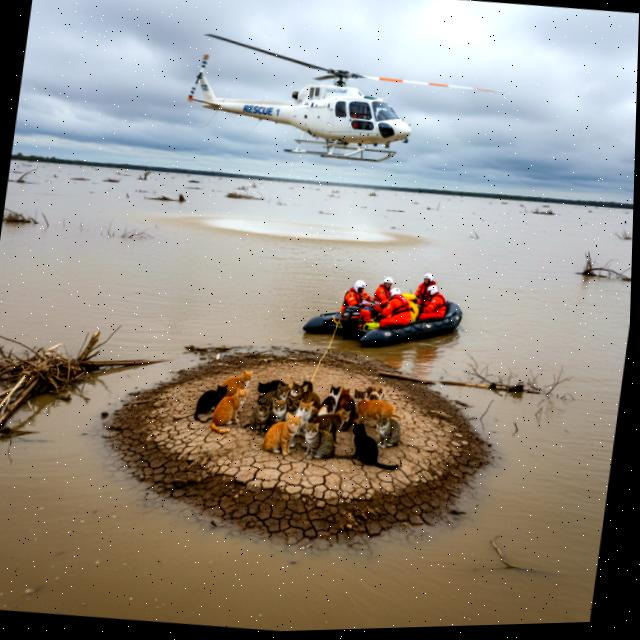cat: (345, 420, 406, 476), (208, 379, 252, 439), (348, 385, 401, 430), (260, 409, 305, 460), (299, 419, 340, 466), (309, 405, 354, 447), (190, 380, 230, 426), (367, 412, 403, 452), (332, 384, 360, 434), (216, 365, 255, 399), (253, 379, 293, 412), (288, 396, 313, 437), (317, 380, 341, 422), (247, 400, 272, 439), (254, 376, 293, 397), (267, 396, 288, 431), (299, 386, 325, 411), (289, 382, 305, 404)
rescuer: (376, 279, 417, 333), (340, 275, 377, 323), (417, 282, 453, 326), (368, 274, 395, 324), (412, 271, 442, 309)
